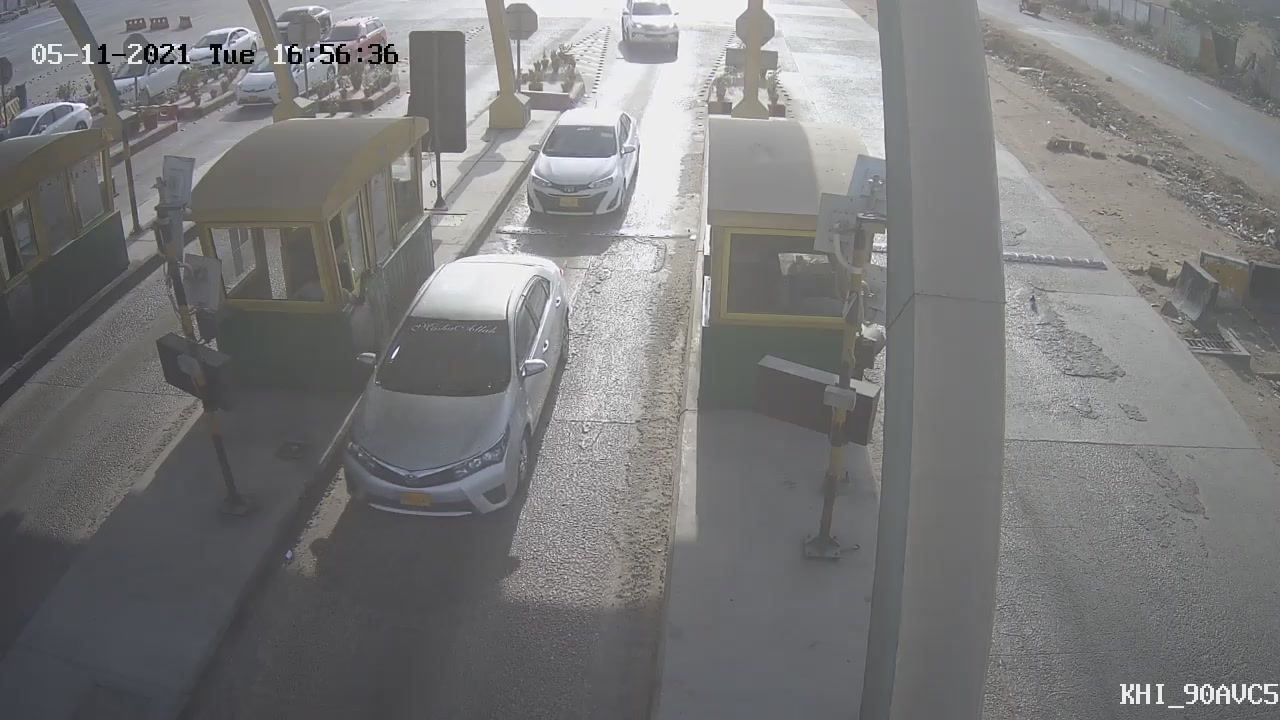F1: (314, 235, 600, 546), (500, 90, 664, 235)
